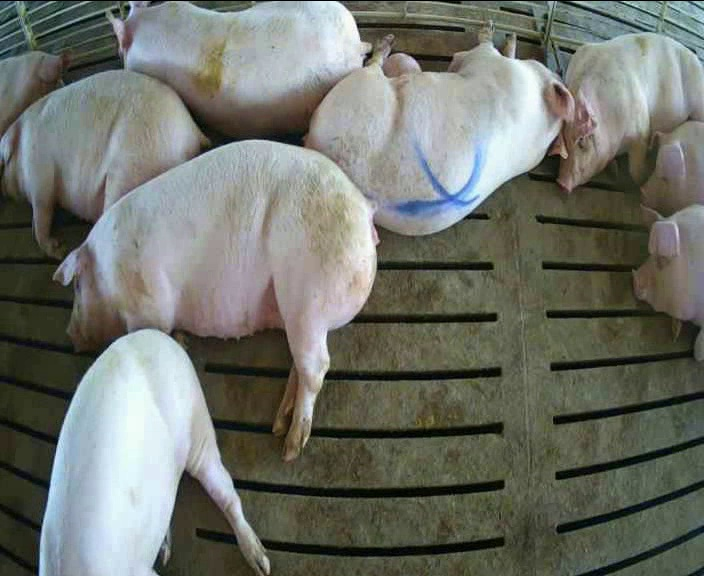pig: (54, 140, 376, 460), (306, 20, 572, 234), (39, 329, 268, 574), (0, 70, 208, 258), (105, 1, 367, 137), (558, 33, 703, 190), (633, 204, 703, 360), (641, 121, 703, 215)
